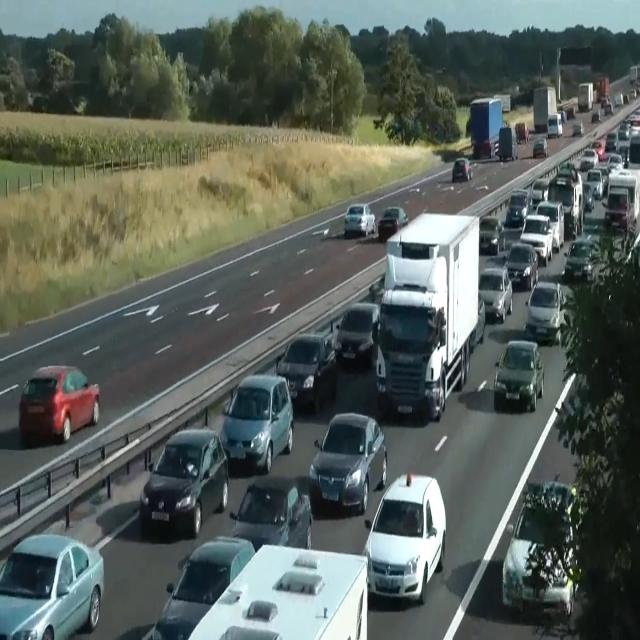bus: (188, 543, 368, 639), (142, 535, 256, 639), (362, 472, 447, 604), (0, 532, 104, 639), (502, 480, 582, 619), (140, 427, 228, 538), (309, 412, 387, 516), (219, 373, 293, 474), (18, 364, 100, 444), (228, 481, 312, 551), (275, 332, 338, 412), (493, 338, 544, 412), (333, 302, 380, 366), (524, 280, 564, 344), (478, 266, 512, 322), (519, 213, 554, 267), (564, 236, 602, 282), (504, 242, 538, 290), (536, 200, 564, 252), (603, 189, 631, 231), (344, 203, 376, 237), (478, 215, 504, 255), (469, 294, 485, 352), (506, 189, 530, 227), (527, 178, 549, 212), (626, 231, 640, 276), (377, 216, 399, 243), (382, 206, 408, 228), (586, 169, 604, 199), (452, 158, 472, 182), (580, 148, 598, 170), (582, 182, 594, 212), (589, 139, 605, 161), (606, 153, 624, 172), (532, 138, 548, 157), (600, 97, 614, 115), (605, 131, 617, 152), (572, 121, 584, 136), (590, 109, 600, 123), (493, 140, 499, 156)
jeep: (377, 205, 408, 242)
minibus: (375, 212, 480, 422), (546, 167, 584, 237), (469, 97, 503, 158), (556, 46, 592, 101), (533, 86, 557, 132), (497, 125, 517, 161), (593, 76, 609, 103), (578, 83, 592, 111), (547, 113, 562, 138), (494, 93, 511, 112), (514, 122, 528, 143), (630, 64, 640, 84)
